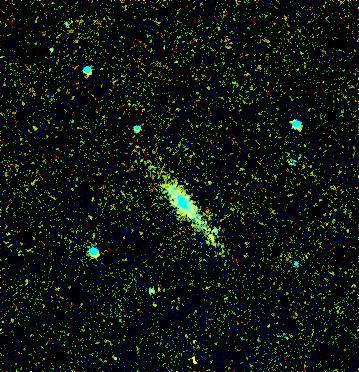star: (181, 346, 211, 372)
